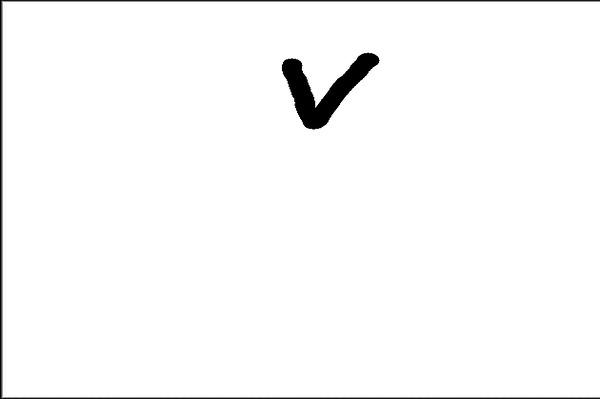V: (269, 49, 384, 134)
